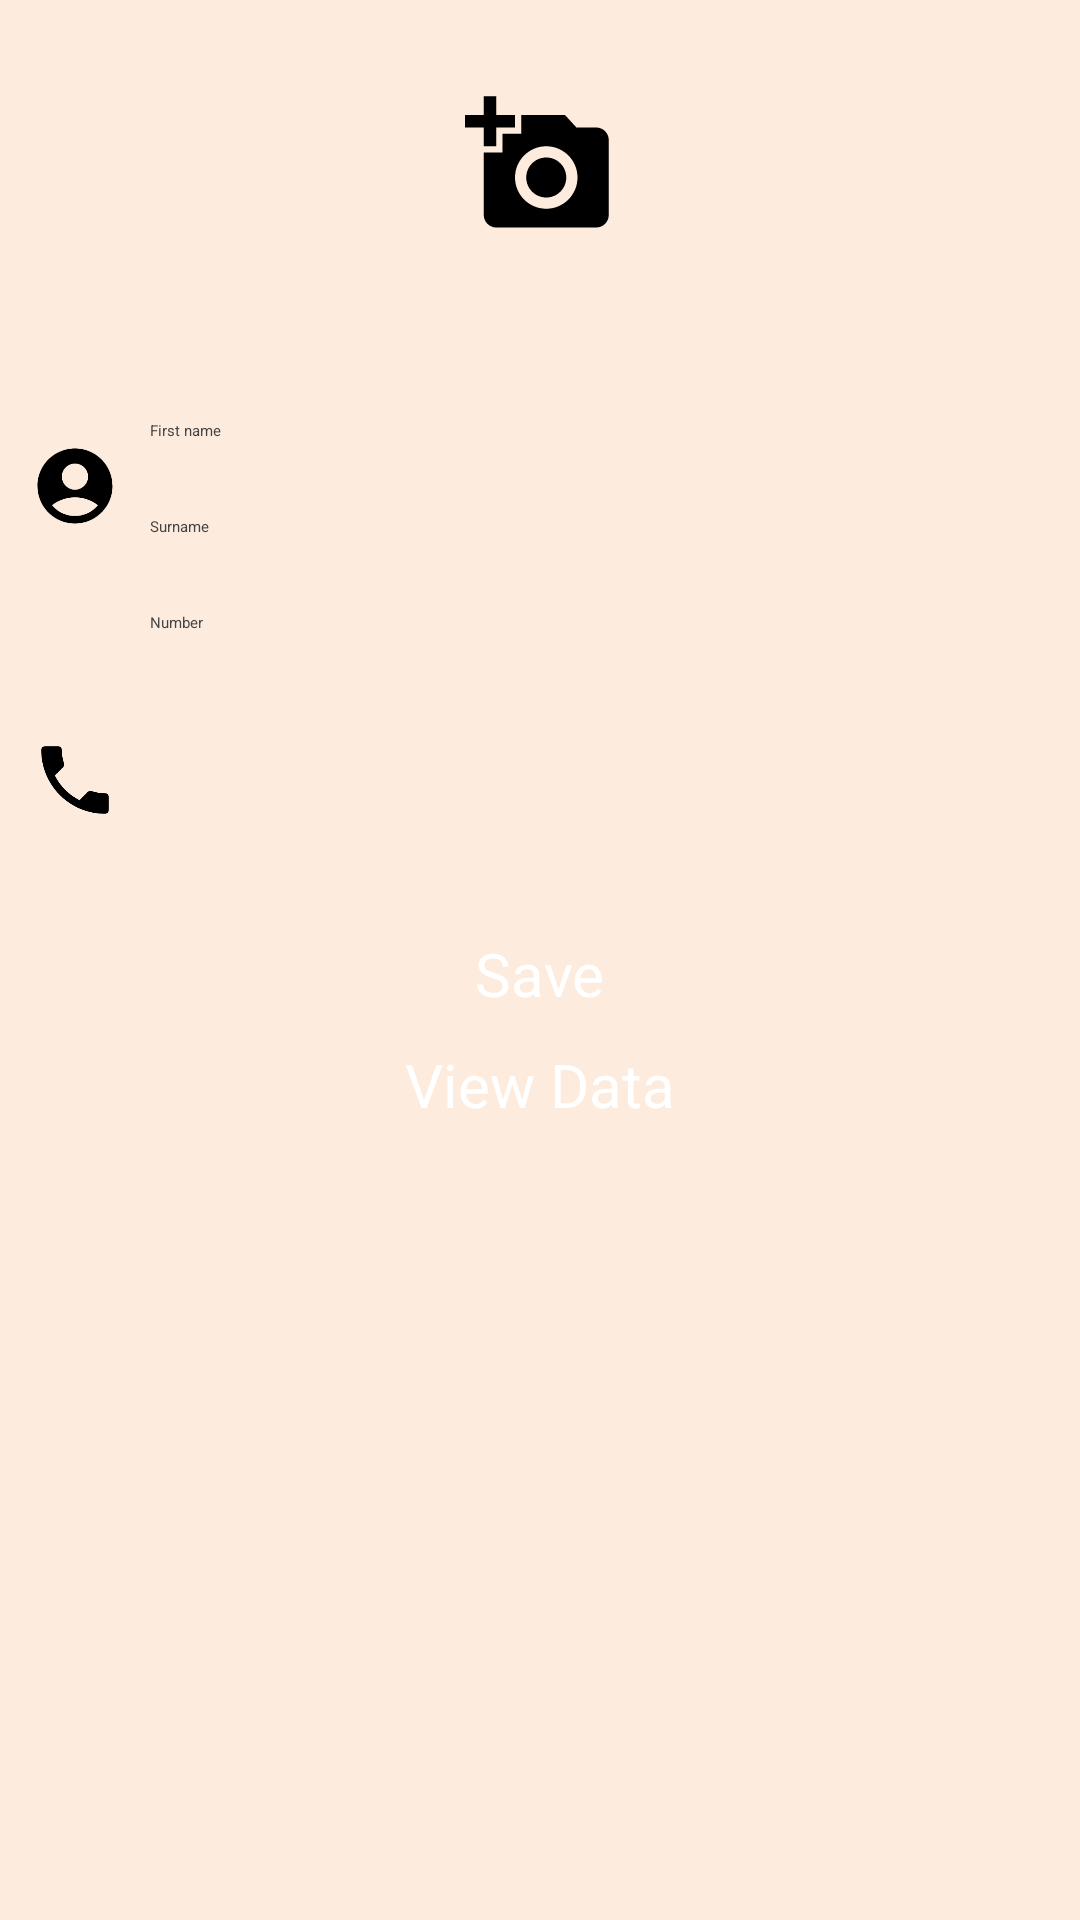

Locate icon controls on the screen. Image size 1080x1920, boxes as bbox=(x1, y1, x2, y2).
account circle: bbox=(37, 448, 113, 524)
add photo: bbox=(465, 96, 609, 228)
phone: bbox=(41, 746, 109, 814)
